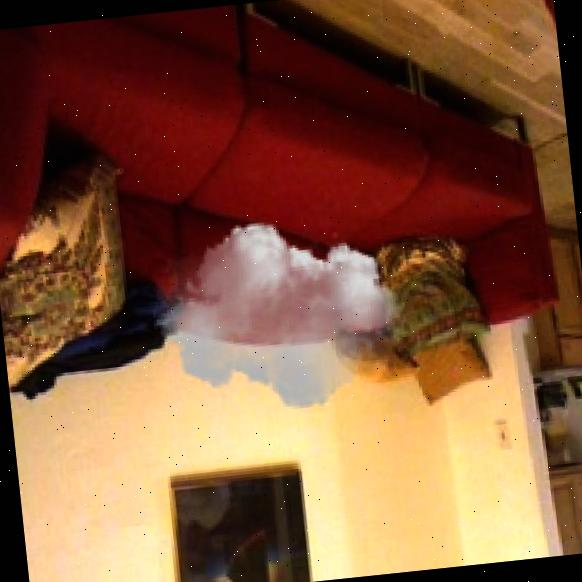smoke: (143, 200, 414, 430)
